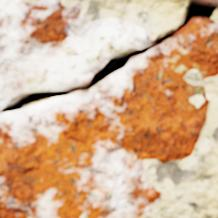brick: (193, 0, 217, 6)
broken_brick: (0, 0, 217, 217)
crack: (1, 0, 216, 112)
